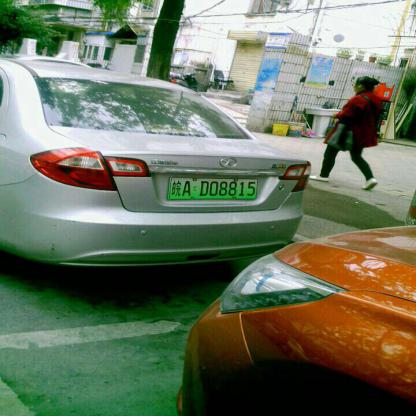lp: (169, 177, 257, 198)
